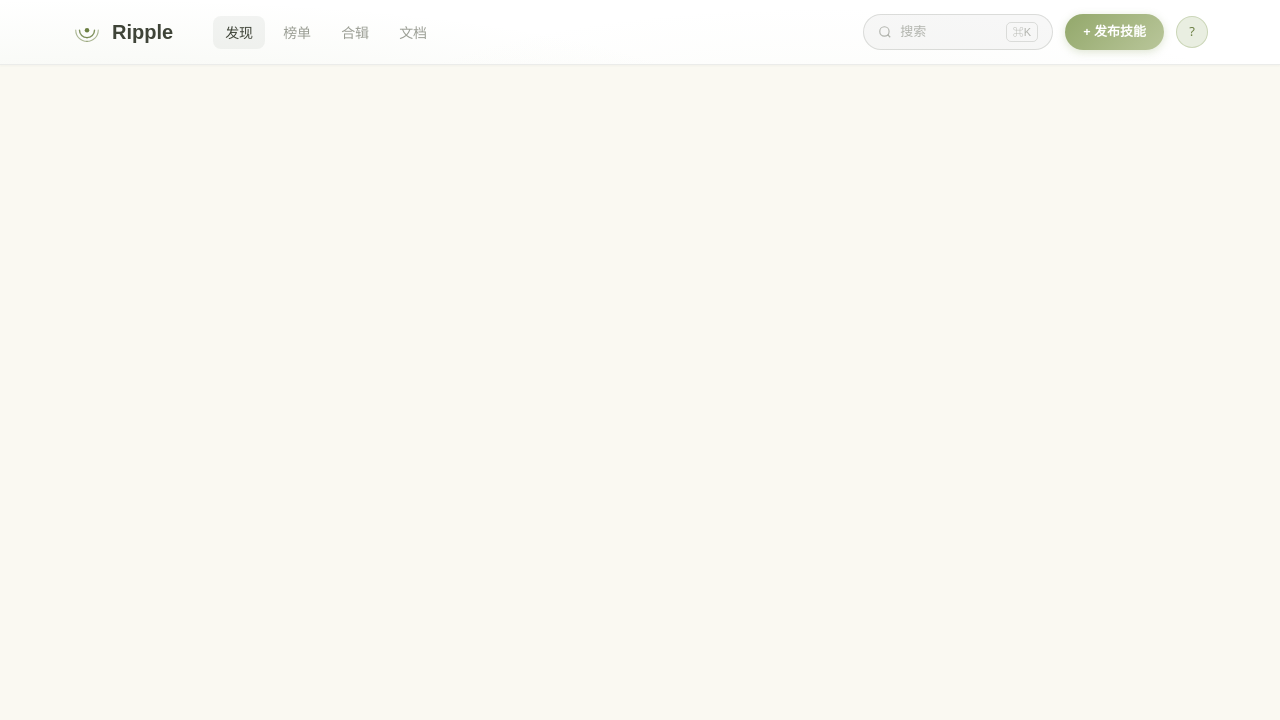
Test case: SearchOverlay › 点击 Header 搜索入口打开浮层，ESC 关闭
Expected: the field with placeholder "搜索技能、作者或场景…" is not shown
Click the button "搜索 ⌘K": x=958, y=32 x1=863 y1=14 x2=1053 y2=50
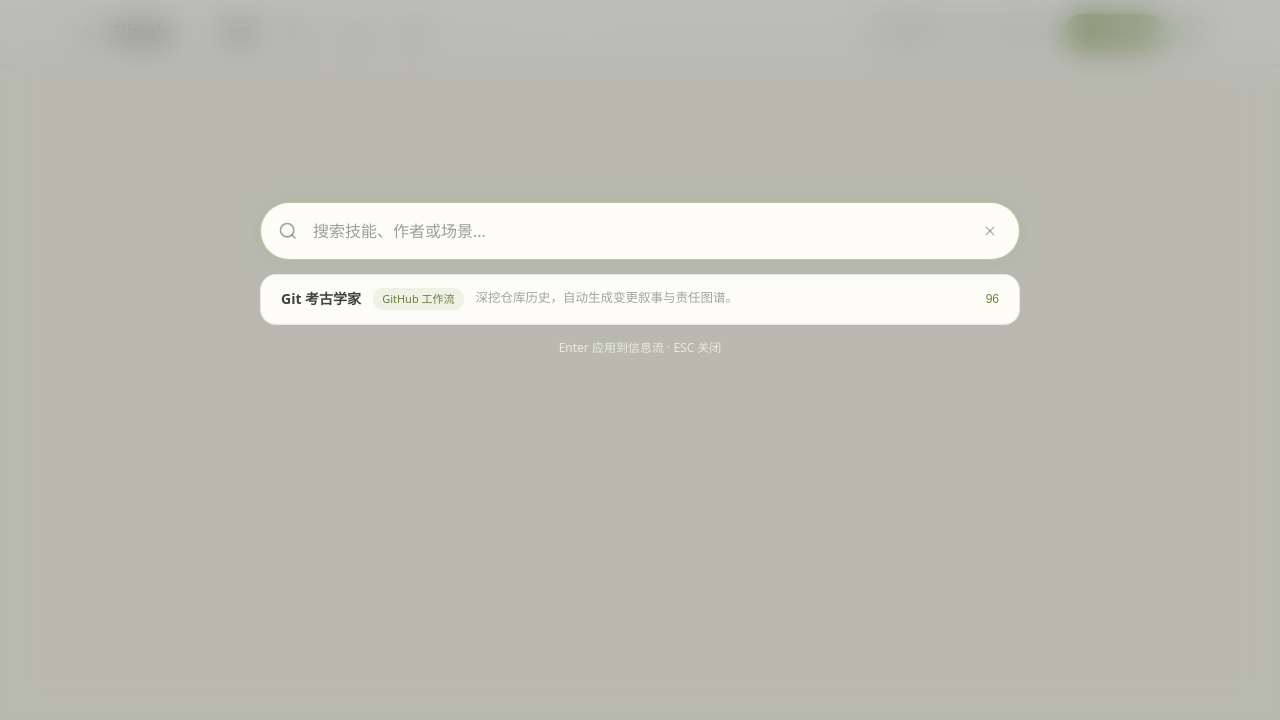
Expected: the field with placeholder "搜索技能、作者或场景…" is shown, x1=260 y1=202 x2=1020 y2=260
Expected: the text "Git 考古学家" is shown, x1=281 y1=288 x2=361 y2=309
Press Escape
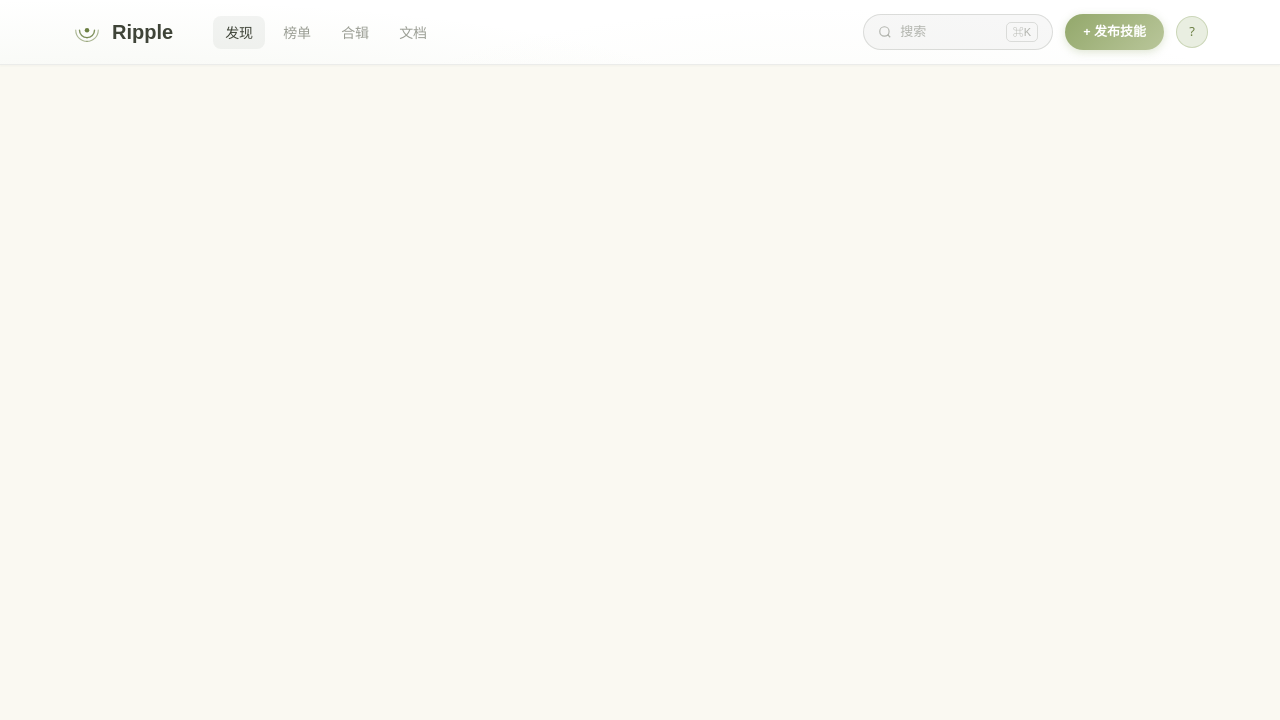
Expected: the field with placeholder "搜索技能、作者或场景…" is gone
